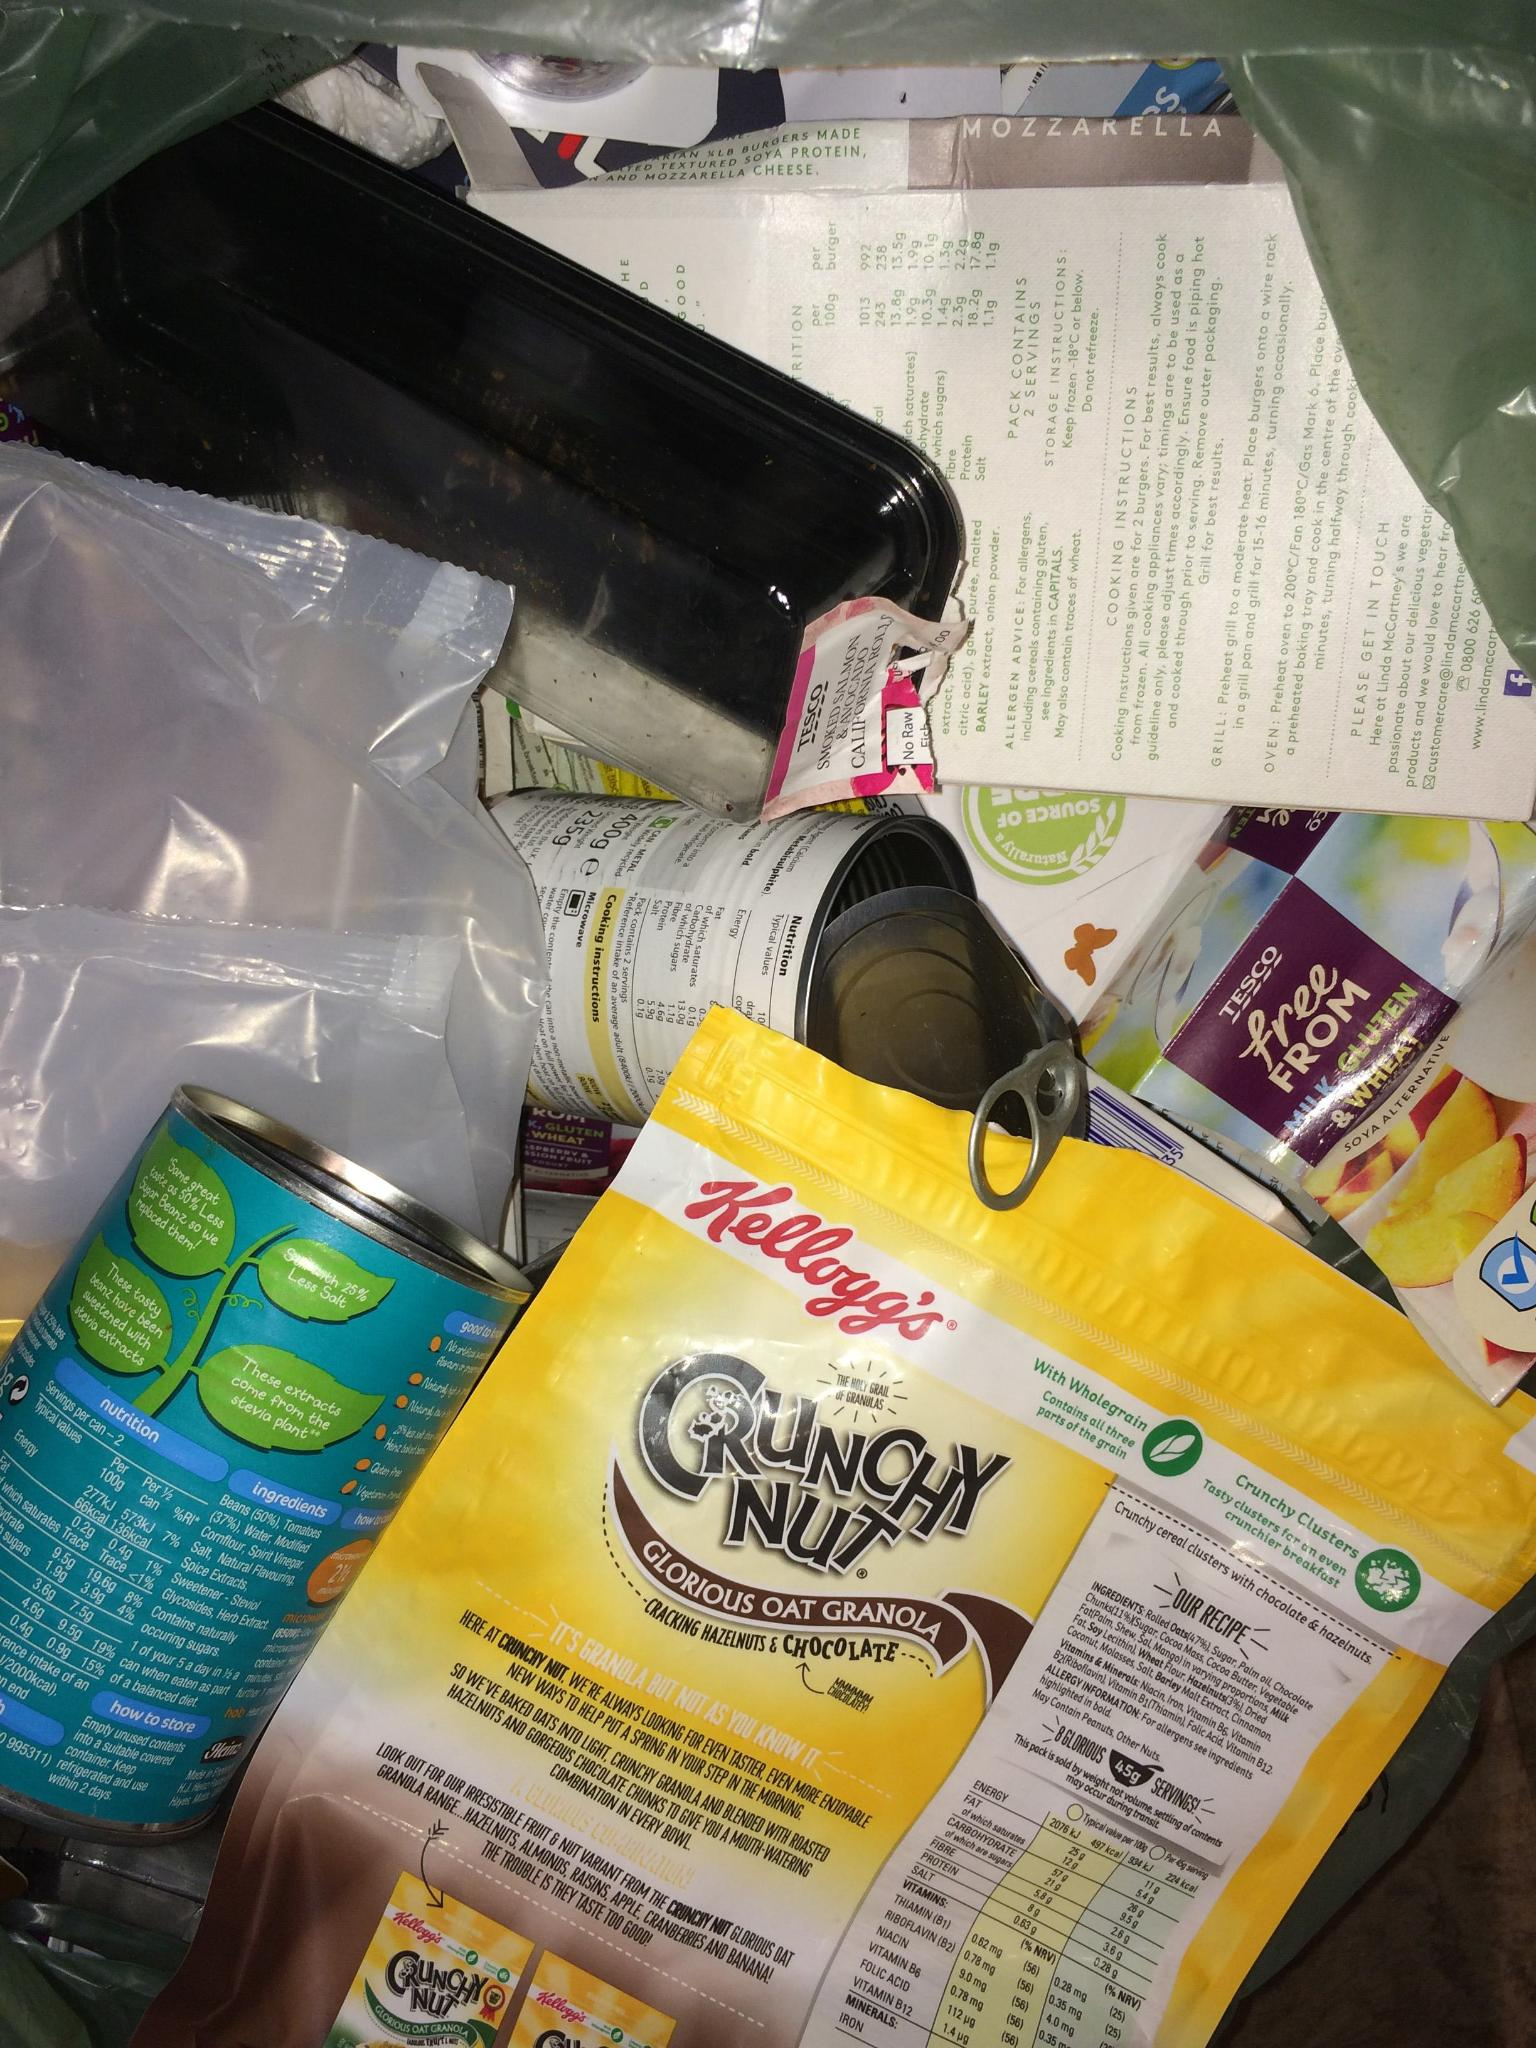Metal: (2, 1064, 547, 2048), (411, 740, 1136, 1242)
Plastic: (140, 989, 1536, 2048), (0, 82, 992, 839), (2, 374, 568, 1434), (1058, 743, 1536, 1456), (1218, 0, 1536, 737)
Trash: (434, 163, 1536, 830)
